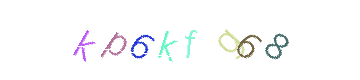6: (114, 0, 194, 80), (193, 0, 273, 80)
8: (223, 0, 303, 80)
F: (134, 0, 214, 80)
G: (139, 0, 219, 80)
K: (53, 0, 133, 80), (118, 0, 198, 80)
P: (100, 0, 180, 80)
